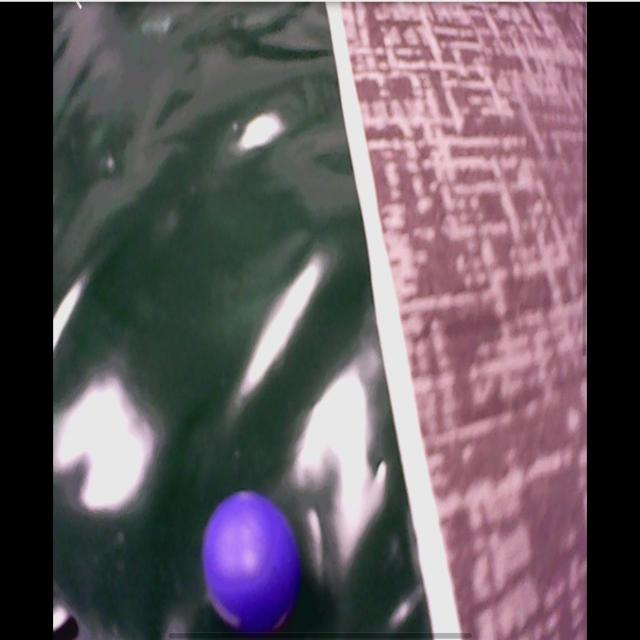ball: (203, 491, 303, 639)
